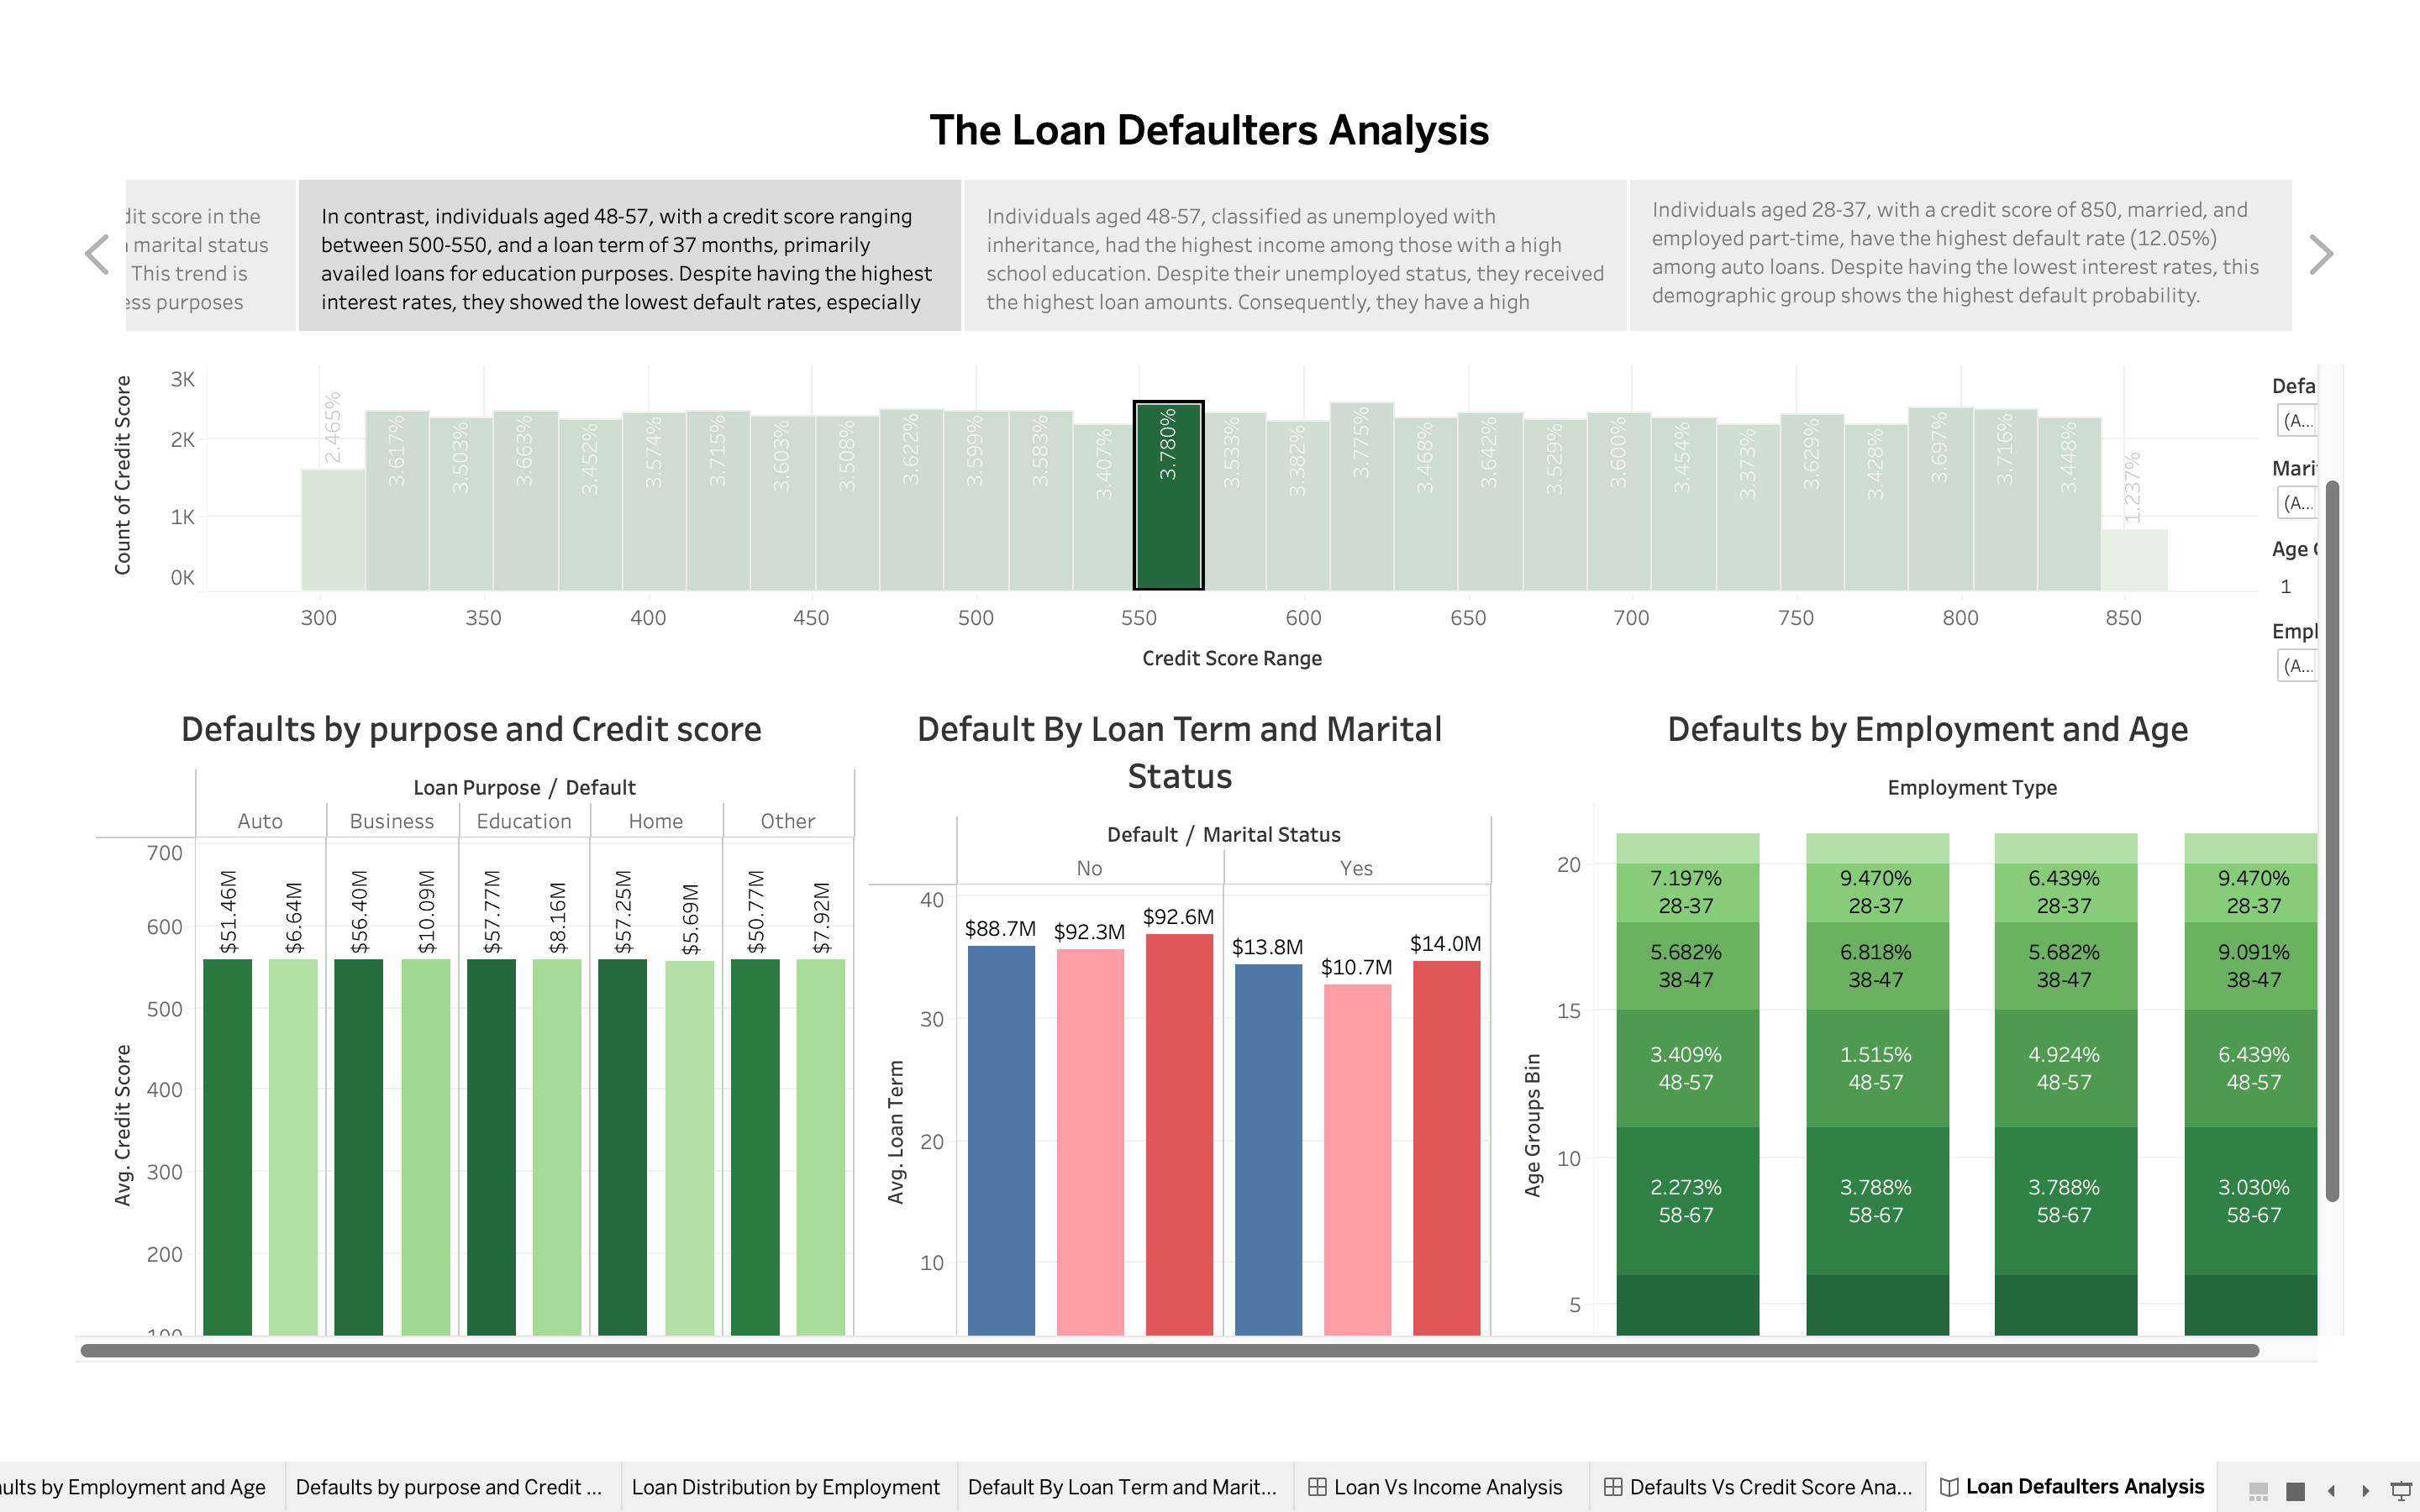

The page's visual inventory and layout, read from the dashboard file:
{"tool":"tableau","page":{"name":"Defaults Vs Credit Score Analysis","canvas":[1366,768],"ordinal":0},"visuals":[{"type":"title","box":[8,8,1350,32]},{"type":"worksheet","title":"Interest Rates on Credit scores","mark":"Automatic","rows":["CreditScore"],"cols":["Credit Score (bin)"],"box":[8,40,1295,242]},{"type":"filter","title":"Defaults by purpose and Credit score ","param":"[federated.12nipjj1i3w28v14qn73b0he7jkn].[none:LoanPurpose:nk]","box":[1303,40,55,48.4]},{"type":"filter","title":"Defaults by purpose and Credit score ","param":"[federated.12nipjj1i3w28v14qn73b0he7jkn].[none:Default:ok]","box":[1303,88.4,55,48.4]},{"type":"filter","title":"Default By Loan Term and Marital Status","param":"[federated.12nipjj1i3w28v14qn73b0he7jkn].[none:MaritalStatus:nk]","box":[1303,136.8,55,48.4]},{"type":"filter","title":"Defaults by Employment and Age","param":"[federated.12nipjj1i3w28v14qn73b0he7jkn].[none:Age (bin):qk]","box":[1303,185.2,55,48.4]},{"type":"filter","title":"Defaults by Employment and Age","param":"[federated.12nipjj1i3w28v14qn73b0he7jkn].[none:EmploymentType:nk]","box":[1303,233.6,55,48.4]},{"type":"worksheet","title":"Defaults by purpose and Credit score ","mark":"Automatic","rows":["CreditScore"],"cols":["LoanPurpose","Default"],"box":[8,282,460,478]},{"type":"worksheet","title":"Default By Loan Term and Marital Status","mark":"Automatic","rows":["LoanTerm"],"cols":["Default","MaritalStatus"],"box":[468,282,379,478]},{"type":"worksheet","title":"Defaults by Employment and Age","mark":"Bar","rows":["Age (bin)"],"cols":["EmploymentType"],"box":[847,282,511,478]}]}

Visuals, with their boxes on the page's 1366x768 design canvas (x1, y1, x2, y2). These are canvas units, not pixel positions in the 2420x1512 screenshot, which may show the page scaled, cropped or inside an application window:
title: left=8, top=8, right=1358, bottom=40
"Interest Rates on Credit scores" worksheet: left=8, top=40, right=1303, bottom=282
"Defaults by purpose and Credit score " filter: left=1303, top=40, right=1358, bottom=88
"Defaults by purpose and Credit score " filter: left=1303, top=88, right=1358, bottom=137
"Default By Loan Term and Marital Status" filter: left=1303, top=137, right=1358, bottom=185
"Defaults by Employment and Age" filter: left=1303, top=185, right=1358, bottom=234
"Defaults by Employment and Age" filter: left=1303, top=234, right=1358, bottom=282
"Defaults by purpose and Credit score " worksheet: left=8, top=282, right=468, bottom=760
"Default By Loan Term and Marital Status" worksheet: left=468, top=282, right=847, bottom=760
"Defaults by Employment and Age" worksheet (Bar marks): left=847, top=282, right=1358, bottom=760
